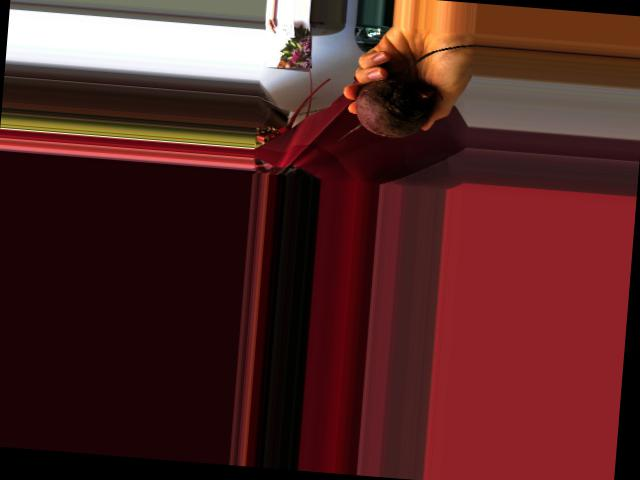beet: (336, 34, 473, 154)
